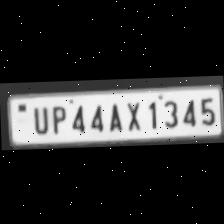1: (141, 97, 159, 128)
3: (159, 94, 179, 128)
4: (178, 94, 198, 127), (66, 100, 86, 132), (86, 100, 104, 132)
5: (196, 94, 216, 125)
A: (104, 99, 122, 131)
P: (47, 101, 66, 133)
U: (28, 102, 48, 134)
X: (122, 97, 142, 130)
